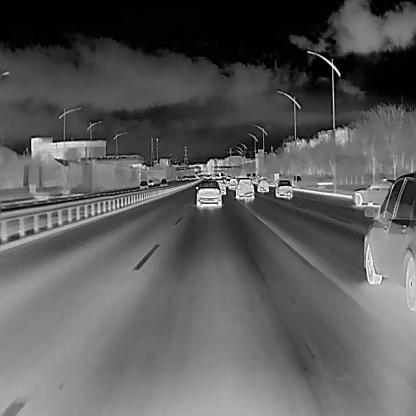car: (362, 170, 415, 312), (350, 175, 400, 208), (194, 178, 222, 207), (234, 176, 254, 202), (274, 178, 292, 197), (213, 176, 226, 195), (256, 177, 269, 192), (227, 176, 238, 190), (289, 173, 302, 184), (138, 178, 146, 188), (158, 176, 168, 184), (146, 178, 154, 186), (176, 174, 180, 179)
